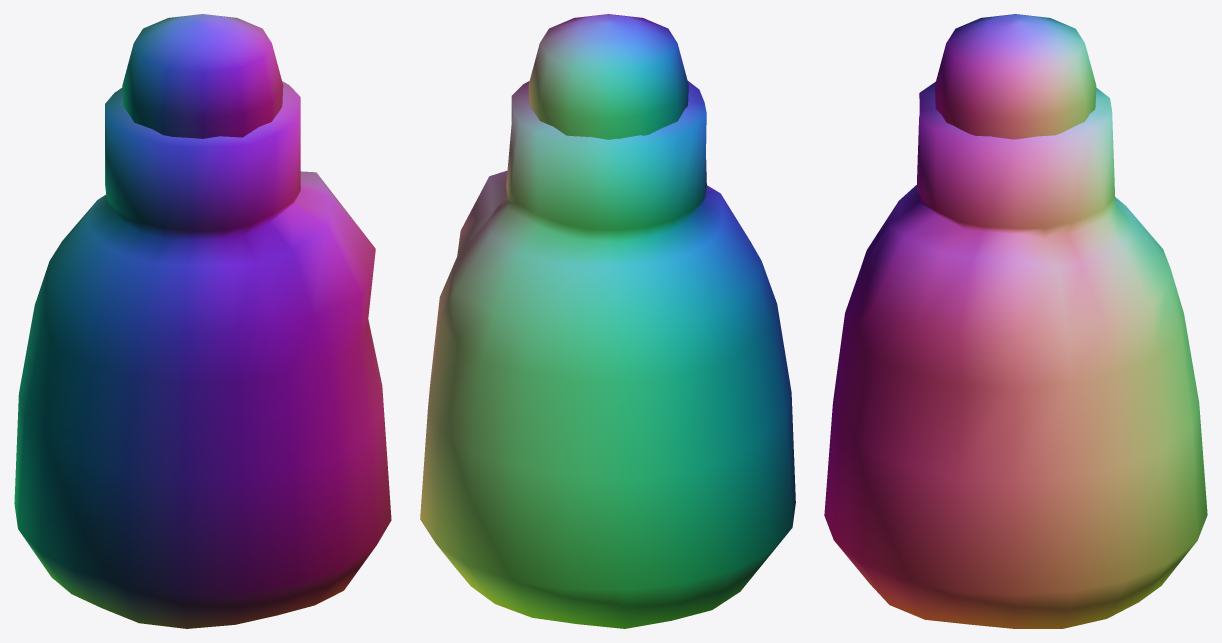
Rendered from SM_Pickup_Quest_Ichor.fbx.
3 views of the same model, side by side, from view 1: azimuth 30°, elevation 25°; view 2: azimuth 150°, elevation 25°; view 3: azimuth 270°, elevation 25° (orthographic).
Visible parts, largest first — view 1: SM_Pickup_Quest_Ichor; view 2: SM_Pickup_Quest_Ichor; view 3: SM_Pickup_Quest_Ichor.
Part boxes in pixels (x1,y1,x2,y2): SM_Pickup_Quest_Ichor: (14,14,391,628); SM_Pickup_Quest_Ichor: (420,14,795,628); SM_Pickup_Quest_Ichor: (824,14,1207,628).
Bounding box in the file's own units: 0.167 × 0.271 × 0.1692.
